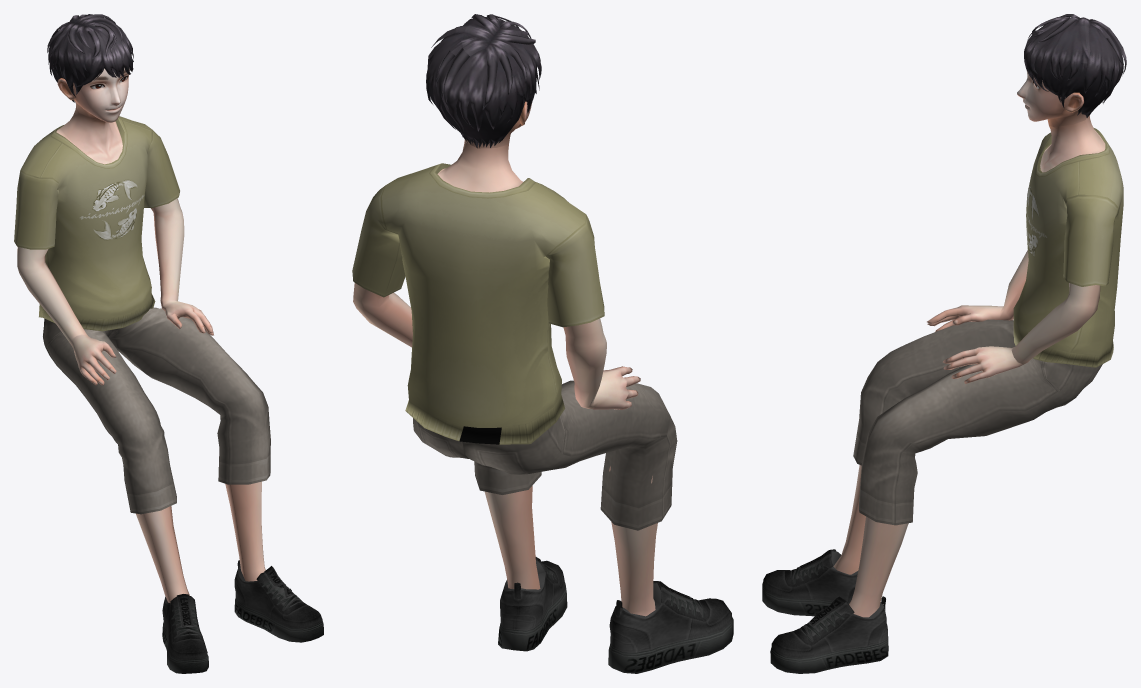
File: man_sit.glb
3 renders of one model, left to right at view 1: azimuth 30°, elevation 25°; view 2: azimuth 150°, elevation 25°; view 3: azimuth 270°, elevation 25°, orthographic. The views are drawn at different scales.
Parts seen in each view (by area): view 1: body_man_hair_002; view 2: body_man_hair_002; view 3: body_man_hair_002.
Part boxes in pixels (x1,y1,x2,y2): body_man_hair_002: [14, 14, 323, 673]; body_man_hair_002: [352, 14, 733, 673]; body_man_hair_002: [762, 14, 1126, 673].
Bounding box in the file's own units: 0.5188 × 1.48 × 0.811.
Materials: 7 (7 with a texture image).
